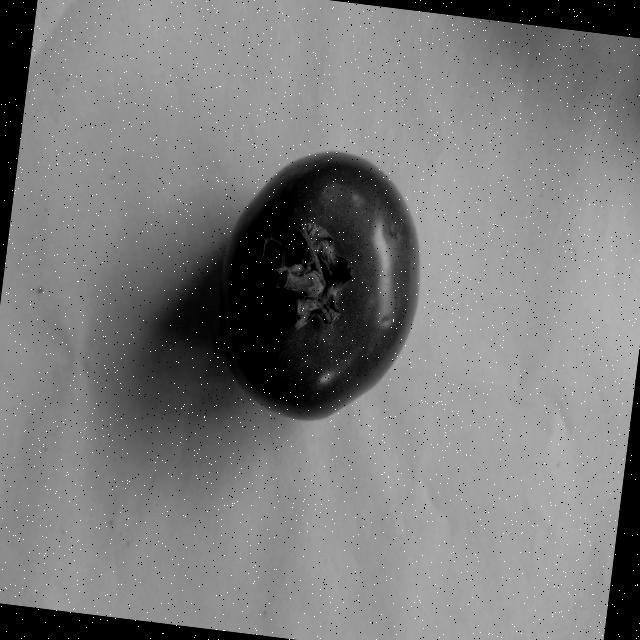Tomato: (198, 133, 440, 438)
